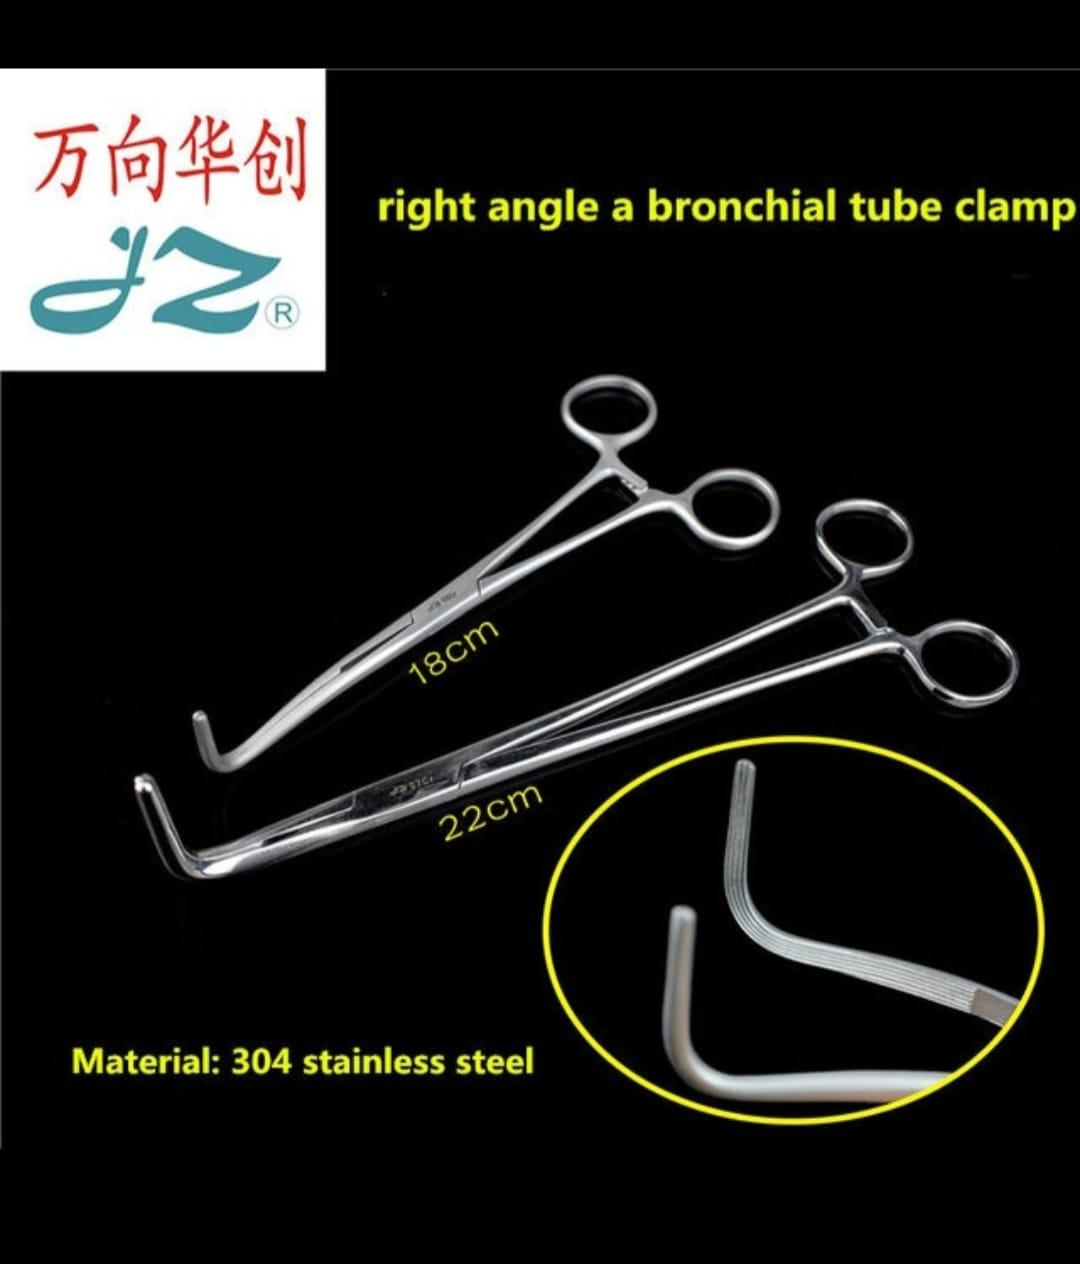Rectangle Cholecystectomy Forceps: (128, 490, 1028, 896), (184, 356, 790, 780)
